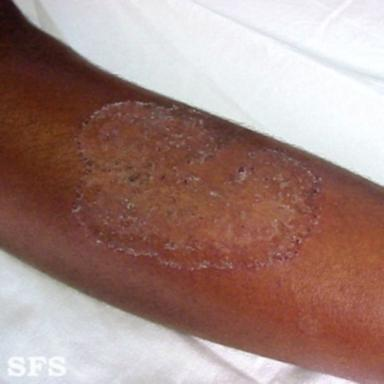Tinea-Corporis: (72, 97, 321, 270)
